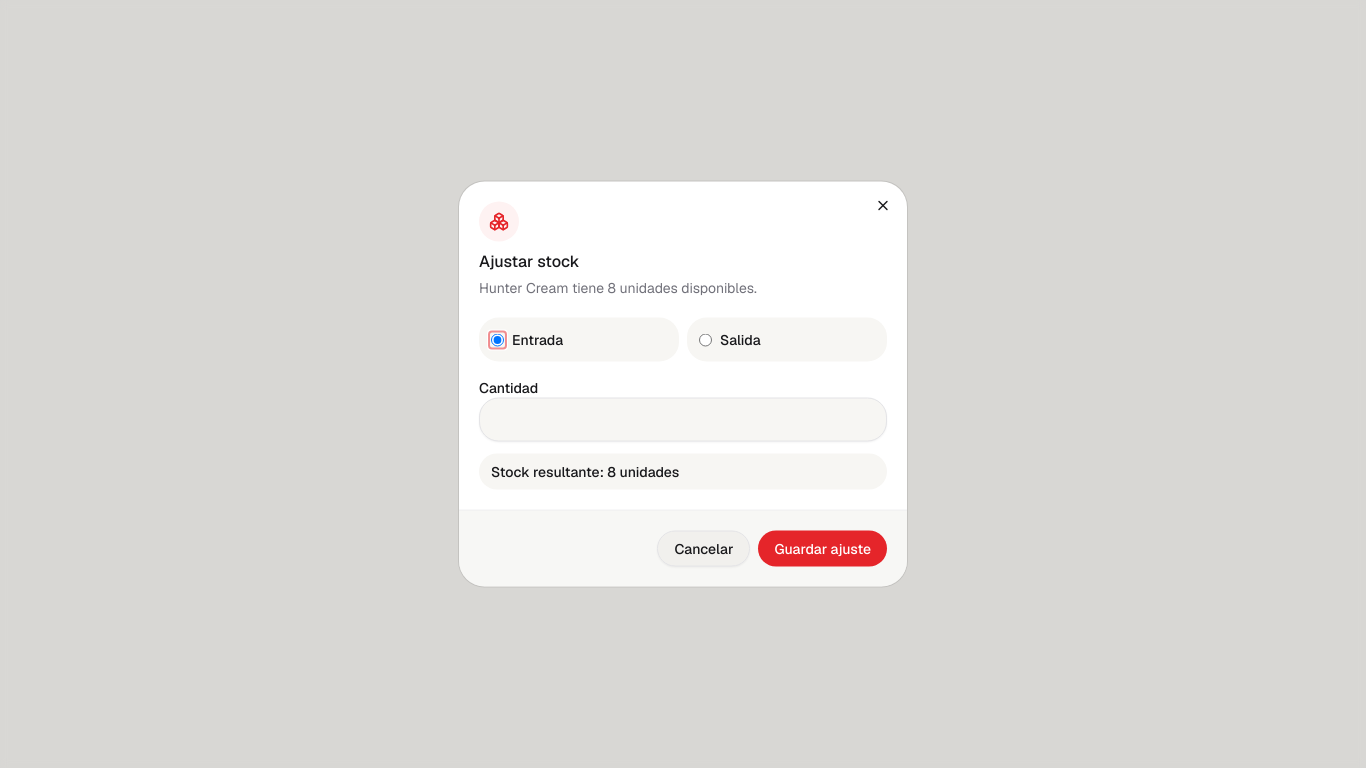
Test: prevents an exit greater than the available stock
Click the radio button labelled "Salida" at (706, 340), box [699,333,712,346]
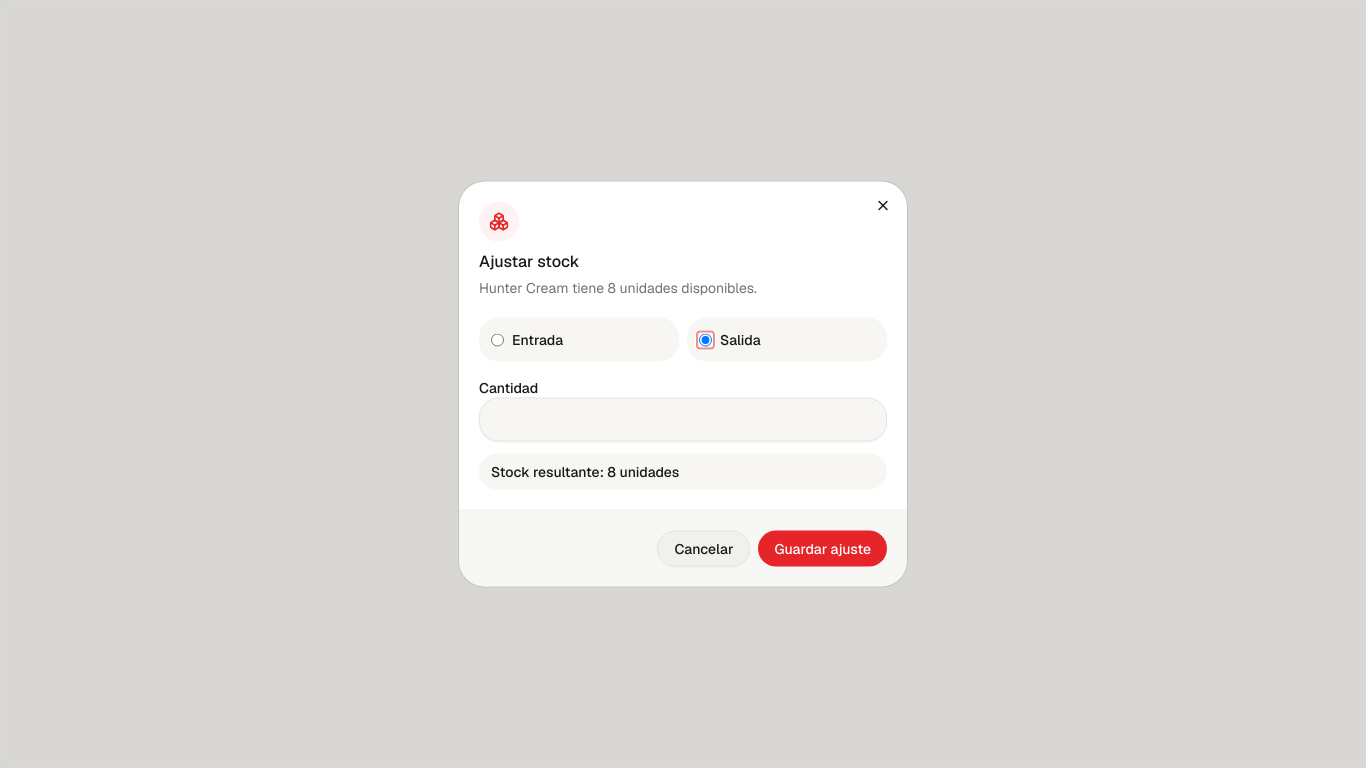
Type "9" into the number field labelled "Cantidad" at (683, 420), box [479,398,887,442]
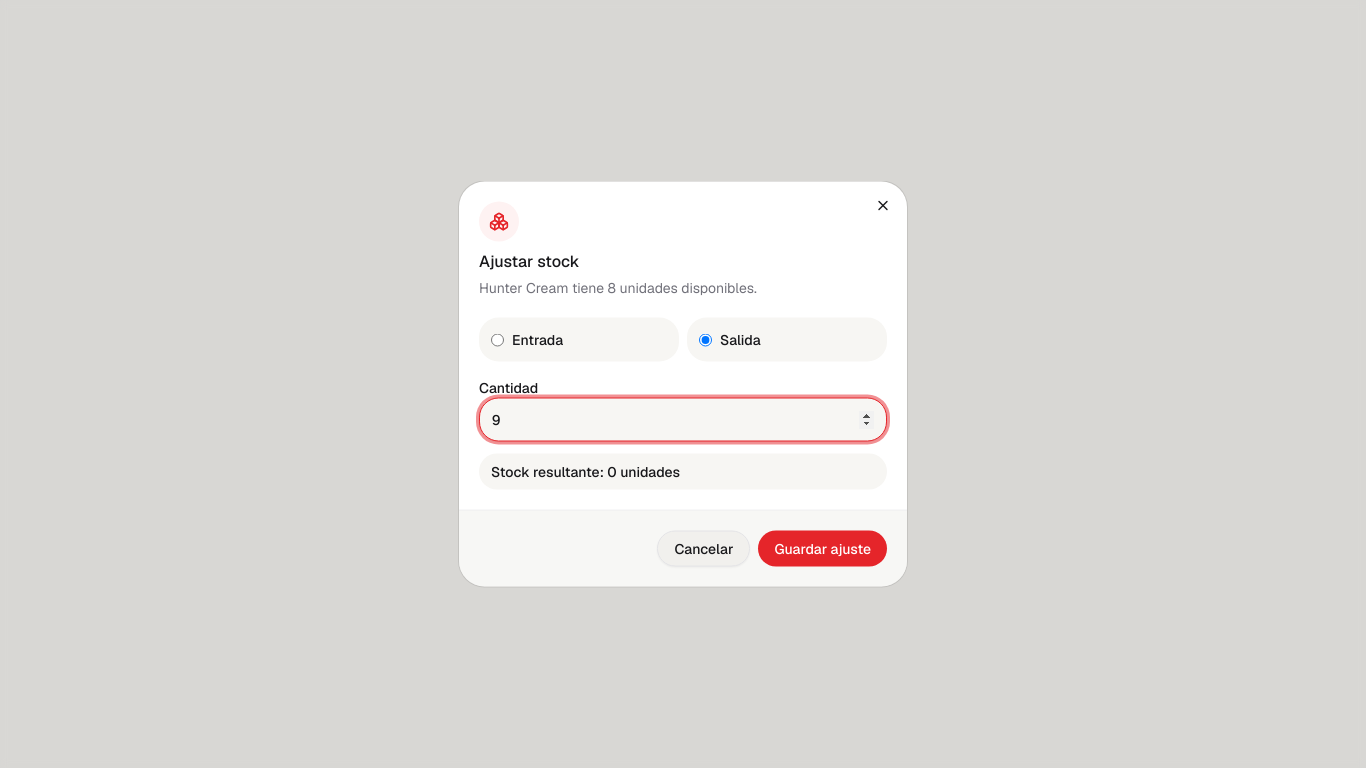
Click the button "Guardar ajuste" at (823, 548), box [758,530,887,566]
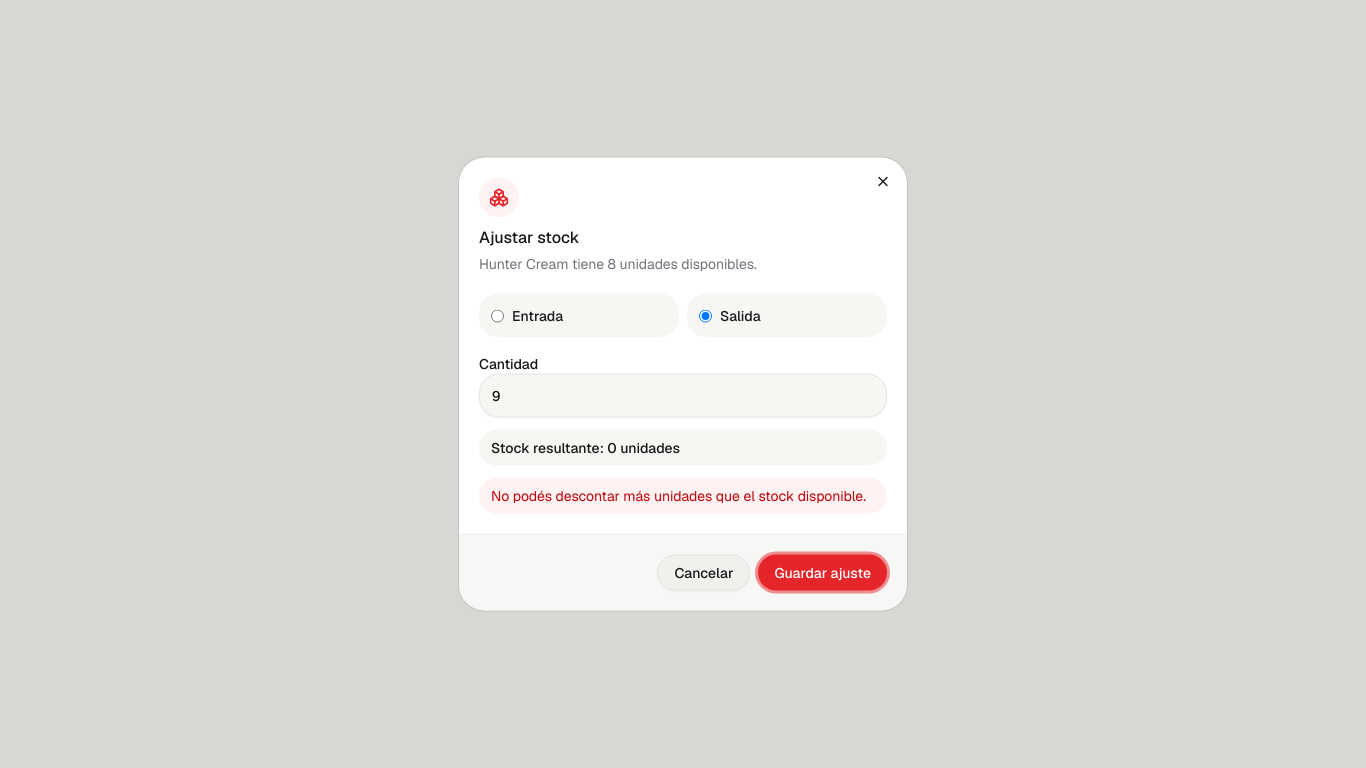
expect the text "No podés descontar más unidades que el stock disponible." is shown: met, box [479,478,887,514]
